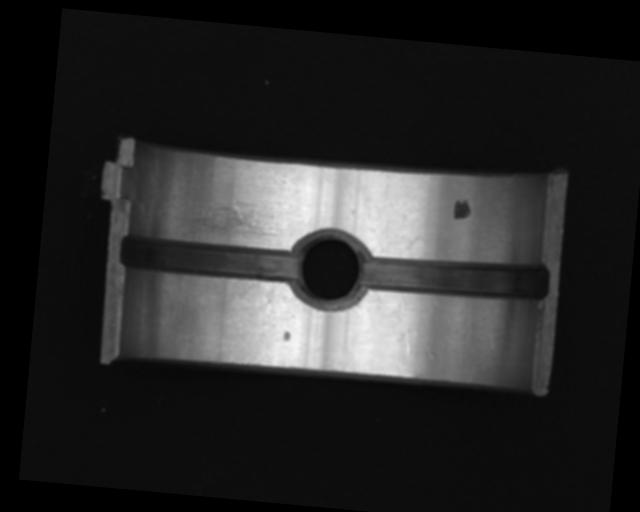blot: (451, 198, 472, 222)
bruise: (282, 330, 291, 342)
gap: (357, 249, 548, 305), (118, 233, 301, 285)
hole: (289, 226, 367, 312)
nick: (394, 290, 416, 354)
scratch: (172, 196, 287, 244)
